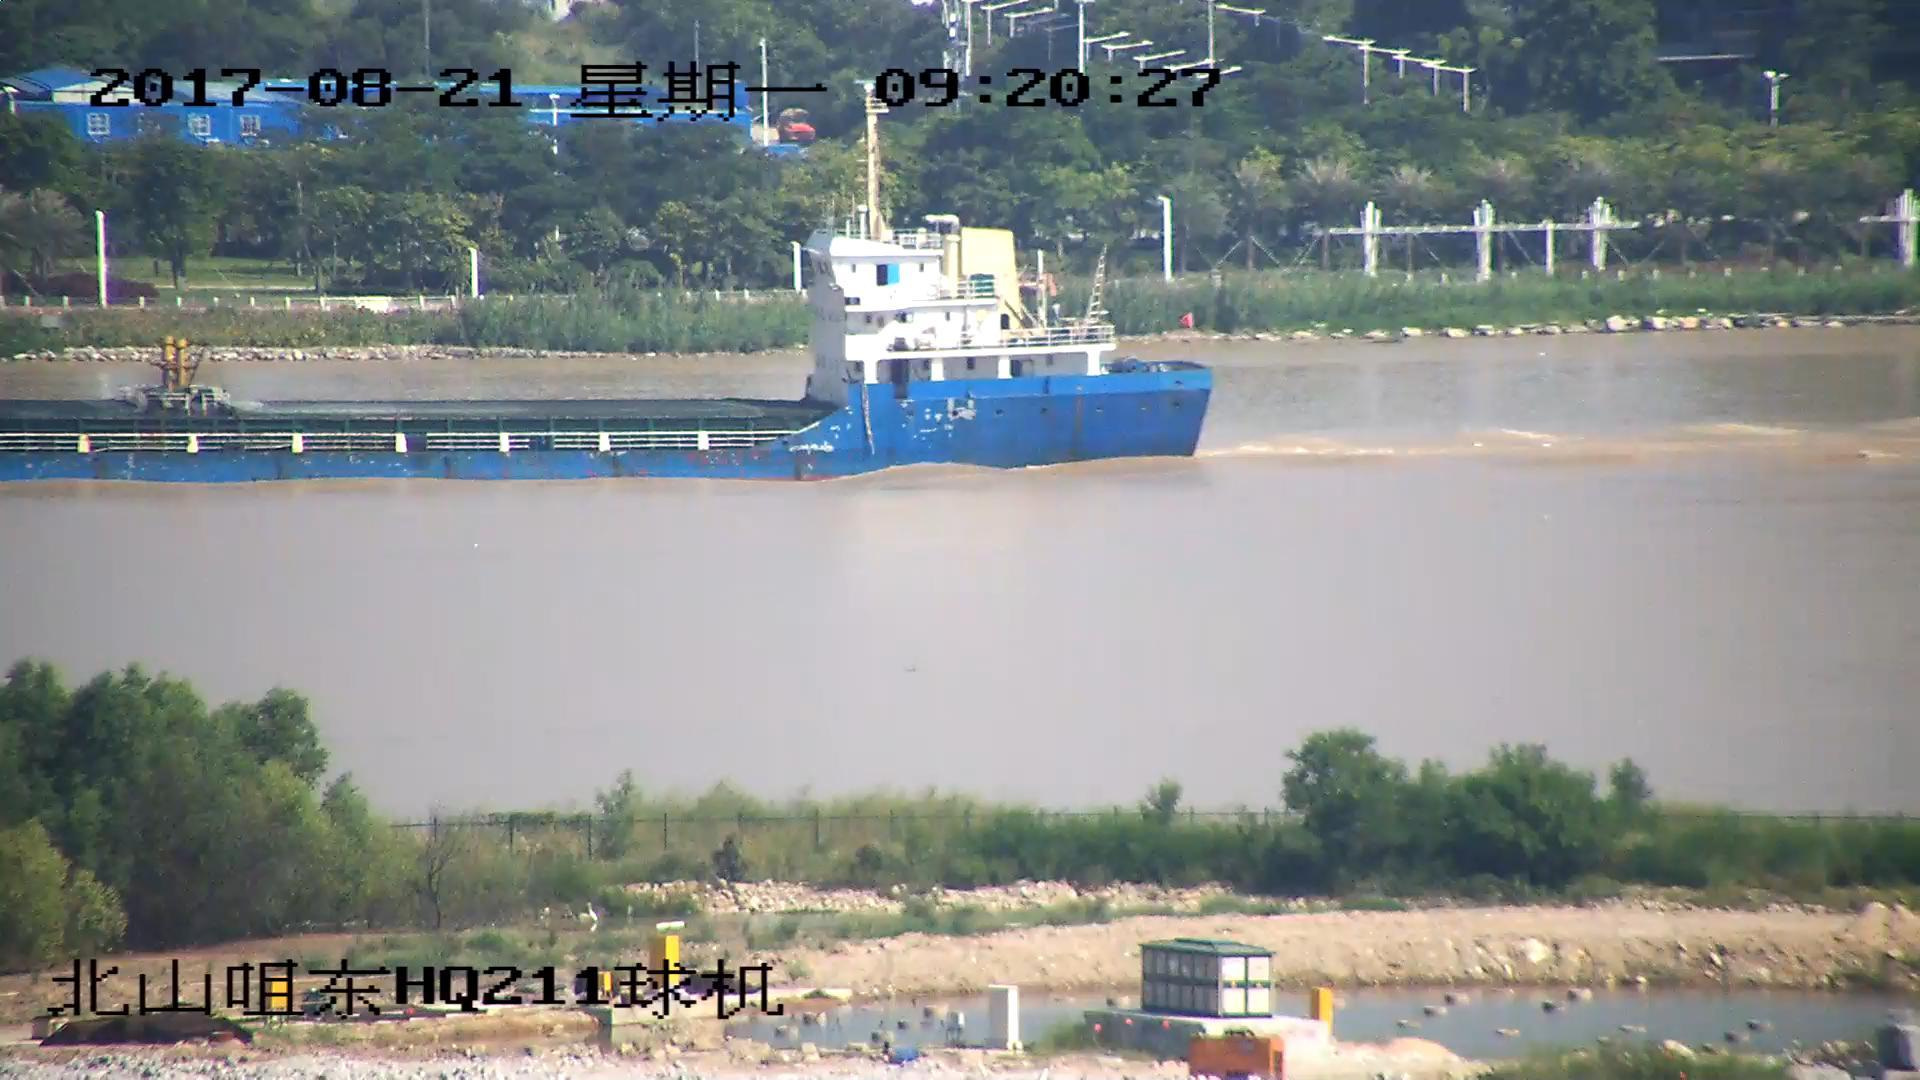Ship: (3, 117, 1229, 483)
